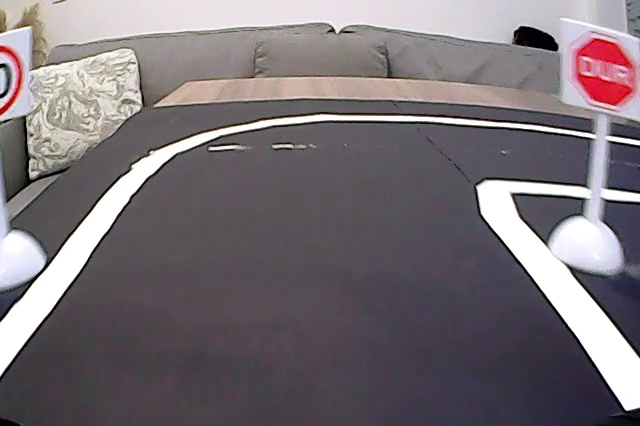stop sign: (563, 24, 638, 114)
